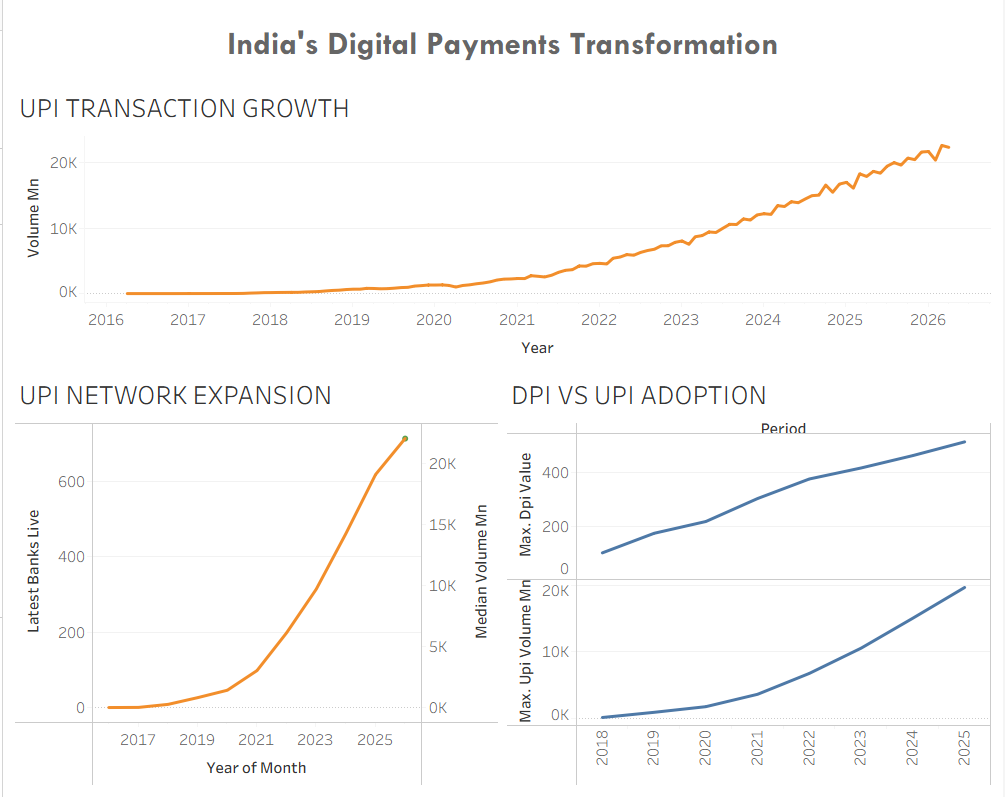

Layout of this report page (visuals, bound fields, positions):
{"tool":"tableau","page":{"name":"Dashboard 1","canvas":[1000,800],"ordinal":0},"visuals":[{"type":"text","box":[8,8,683,76]},{"type":"worksheet","title":"PAYMENT RAIL EVOLTUION","mark":"Bar","rows":["VOLUME_SHARE_PCT"],"cols":["REPORT_PERIOD"],"box":[691,8,301,784]},{"type":"worksheet","title":"UPI_GROWTH","mark":"Automatic","rows":["VOLUME_MN"],"cols":["MONTH"],"box":[8,84,683,301]},{"type":"worksheet","title":"BANK_ADOPTION","mark":"Automatic","rows":["Calculation_0857902892281859","VOLUME_MN"],"cols":["MONTH"],"box":[8,385,341.5,407]},{"type":"worksheet","title":"RBI_DPI VS UPI GROWTH","mark":"Automatic","rows":["DPI_VALUE","UPI_VOLUME_MN"],"cols":["PERIOD"],"box":[349.5,385,341.5,407]}]}

Visuals, with their boxes in screenshot pixels (x1, y1, x2, y2), scaled from the page's 1000x800 canvas onto the 1005x797 screenshot:
text: select_region(8, 8, 694, 84)
"PAYMENT RAIL EVOLTUION" worksheet (Bar marks): select_region(694, 8, 997, 789)
"UPI_GROWTH" worksheet: select_region(8, 84, 694, 384)
"BANK_ADOPTION" worksheet: select_region(8, 384, 351, 789)
"RBI_DPI VS UPI GROWTH" worksheet: select_region(351, 384, 694, 789)
